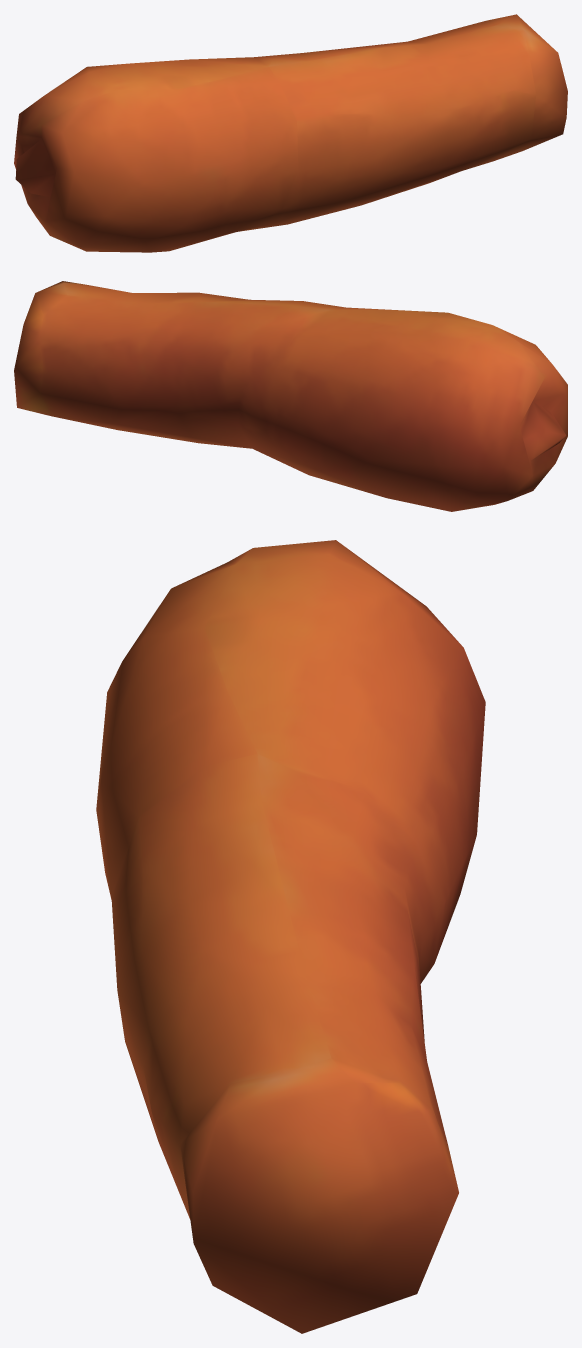
File: SM_Food_SM_Carrot_02.fbx
3 views of the same model, one above another, from view 1: azimuth 30°, elevation 25°; view 2: azimuth 150°, elevation 25°; view 3: azimuth 270°, elevation 25° (orthographic). The views are drawn at different scales.
Parts seen in each view (by area): view 1: SM_Food_SM_Carrot_02_LOD0; view 2: SM_Food_SM_Carrot_02_LOD0; view 3: SM_Food_SM_Carrot_02_LOD0.
Boxes of the visible parts, bbox=[...] form: SM_Food_SM_Carrot_02_LOD0: bbox=[14, 14, 567, 252]; SM_Food_SM_Carrot_02_LOD0: bbox=[14, 281, 567, 511]; SM_Food_SM_Carrot_02_LOD0: bbox=[96, 540, 485, 1333].
Bounding box in the file's own units: 13.08 × 4.19 × 4.18.
1 material, 1 textured.
